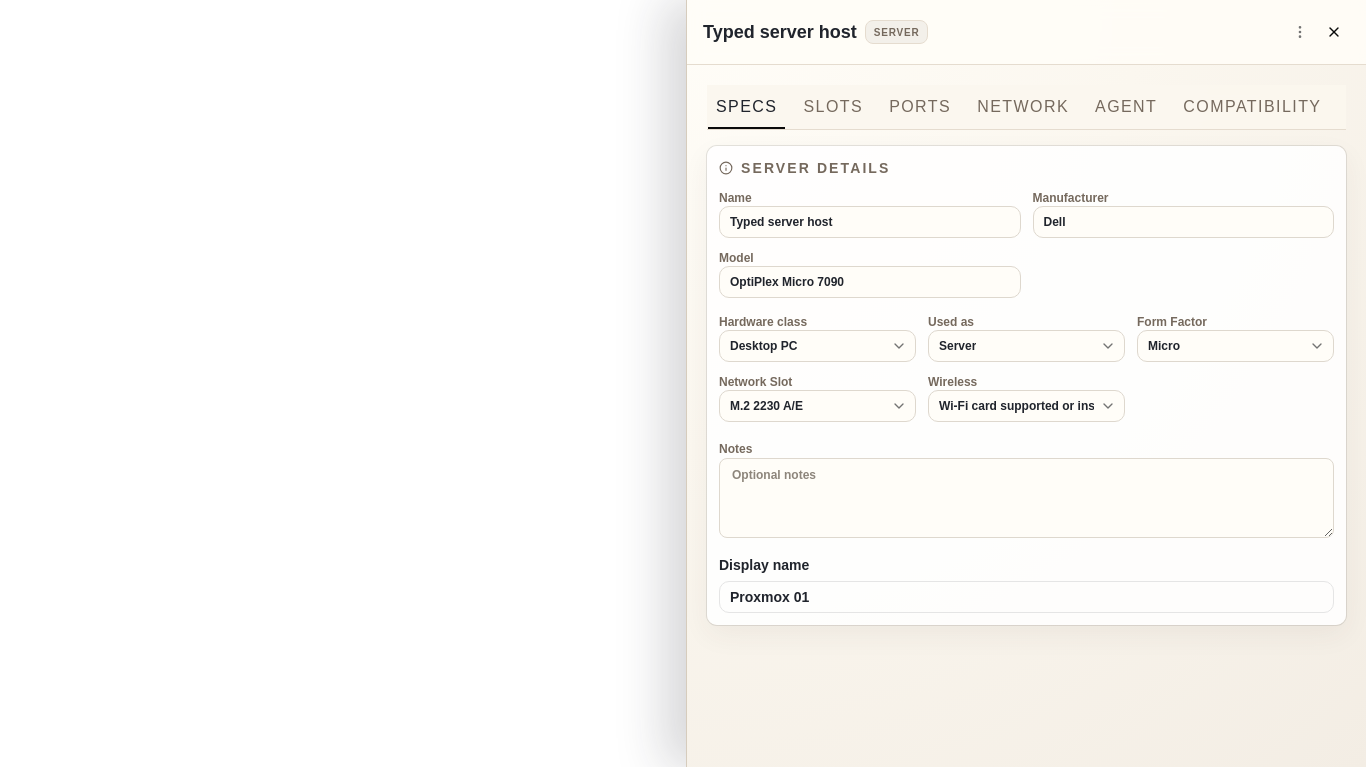
Test: InspectorPanel › resolves typed hosts and component names when category-scoped numeric IDs collide
What coordinates should you click on to do the following:
click the tab "Compatibility"
I would click on:
 (1252, 107)
Its box is 1174,89 -> 1330,125.
(page scrolled)
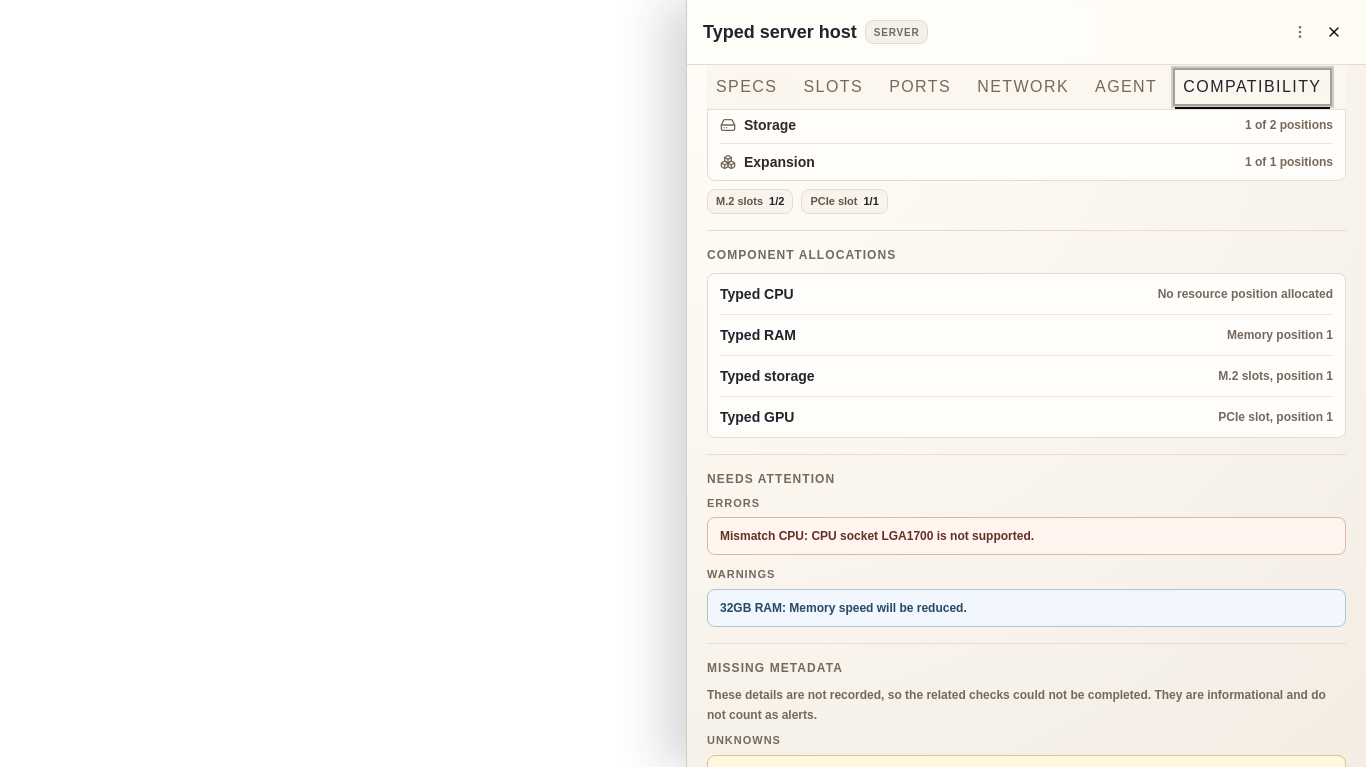
Expected: the text "Typed CPU" is shown, 720,284 -> 794,304
Expected: the text "Typed RAM" is shown, 720,324 -> 796,344
Expected: the text "Typed storage" is shown, 720,366 -> 815,386
